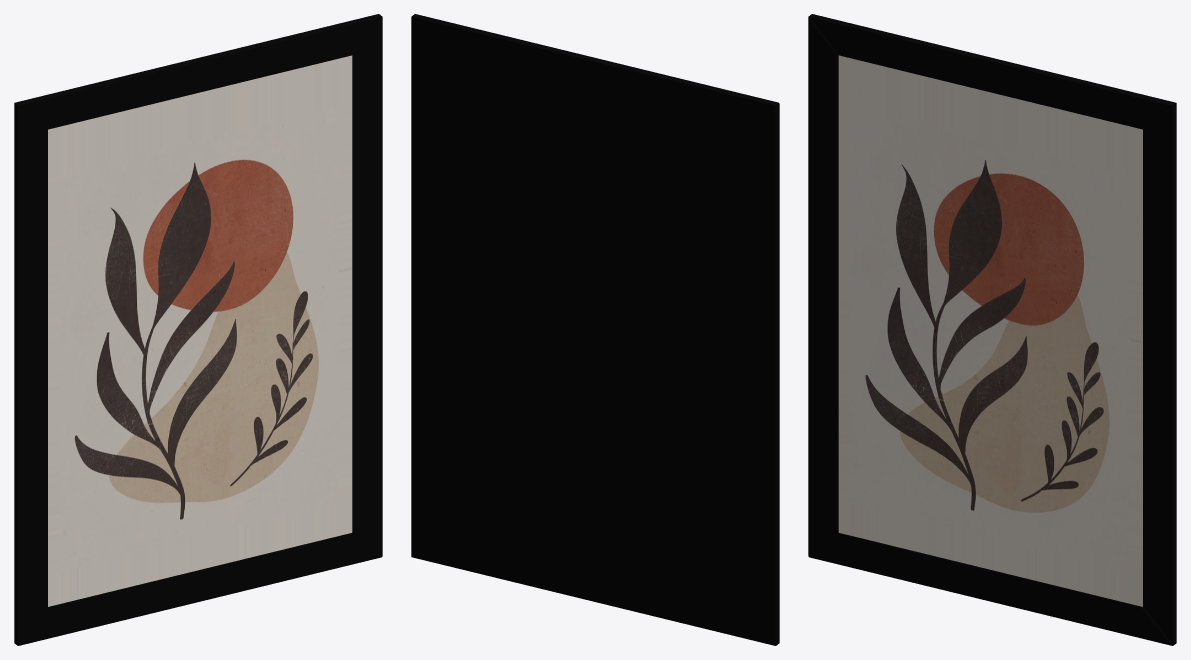
File: sunlit_boho_art.glb
The picture shows the model from 3 angles, left to right: view 1: azimuth 30°, elevation 25°; view 2: azimuth 150°, elevation 25°; view 3: azimuth 330°, elevation 25°; orthographic projection.
Visible parts, largest first — view 1: Plane.014_1, Plane.013_0; view 2: Plane.013_0; view 3: Plane.014_1, Plane.013_0.
Part boxes in pixels (bbox=[...]): Plane.014_1: bbox=[48, 55, 352, 606]; Plane.013_0: bbox=[14, 14, 382, 645]; Plane.013_0: bbox=[411, 14, 779, 645]; Plane.014_1: bbox=[838, 55, 1142, 606]; Plane.013_0: bbox=[808, 14, 1176, 645].
Size of the model in its own units: 0.3236 by 0.4584 by 0.00611.
3 materials, 1 textured.
